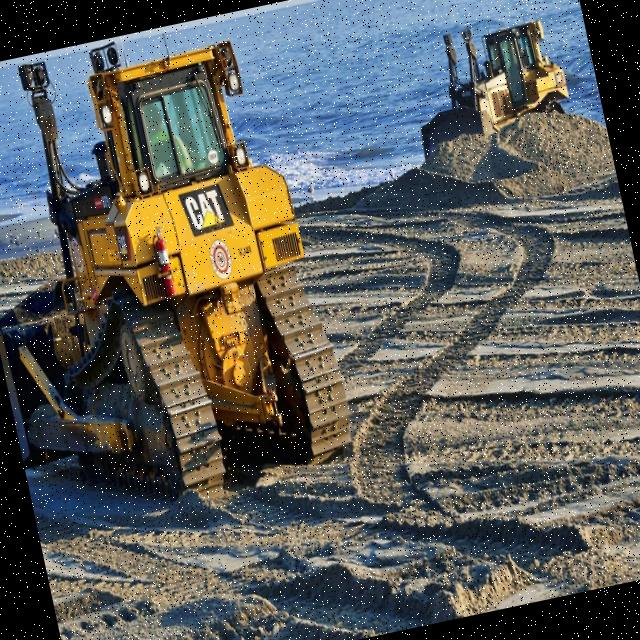Bulldozer: (0, 11, 381, 554), (396, 0, 604, 212)
